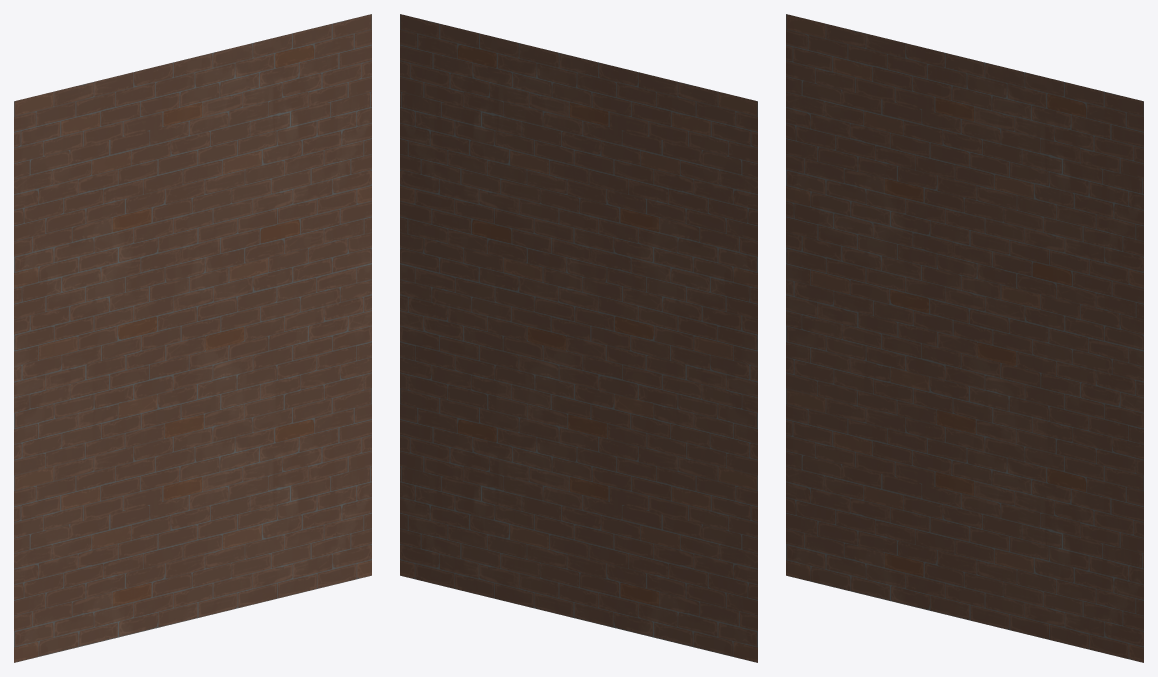
The model's file is Brick_InteriorWall_3.gltf.
3 views of the same model, side by side, from view 1: azimuth 30°, elevation 25°; view 2: azimuth 150°, elevation 25°; view 3: azimuth 330°, elevation 25° (orthographic).
Parts seen in each view (by area): view 1: Brick_InteriorWall_3; view 2: Brick_InteriorWall_3; view 3: Brick_InteriorWall_3.
Part boxes in pixels (x1,y1,x2,y2): Brick_InteriorWall_3: [14, 14, 371, 662]; Brick_InteriorWall_3: [400, 14, 757, 662]; Brick_InteriorWall_3: [786, 14, 1143, 662].
Bounding box in the file's own units: 2 × 3 × 0.
Materials: 1 (1 with a texture image).
